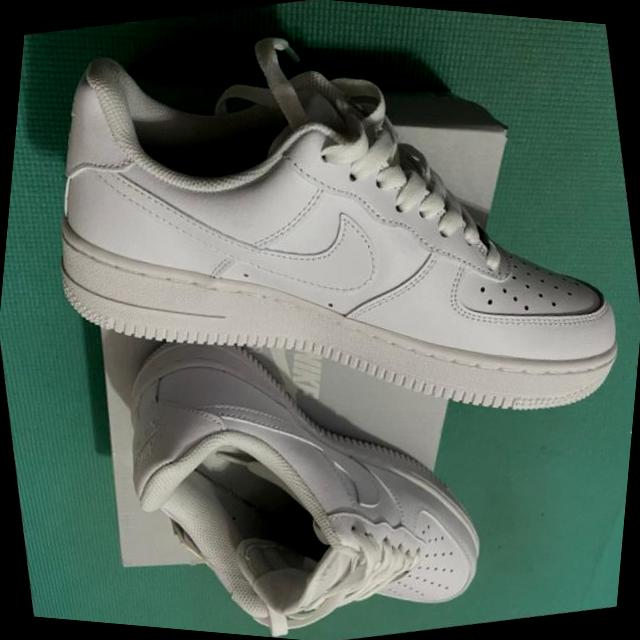nike_original_airforce: (0, 0, 640, 520), (90, 267, 562, 640)
